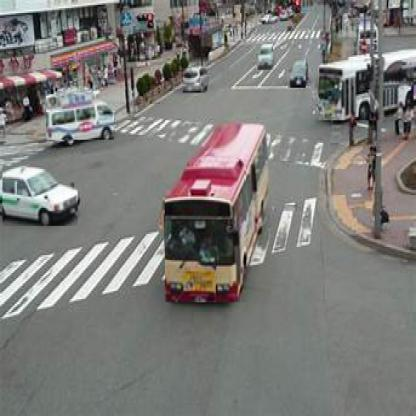bus: (166, 121, 273, 305), (319, 58, 416, 123)
car: (3, 167, 80, 229), (47, 96, 116, 143), (288, 55, 308, 91), (184, 68, 210, 95), (257, 45, 275, 72)
